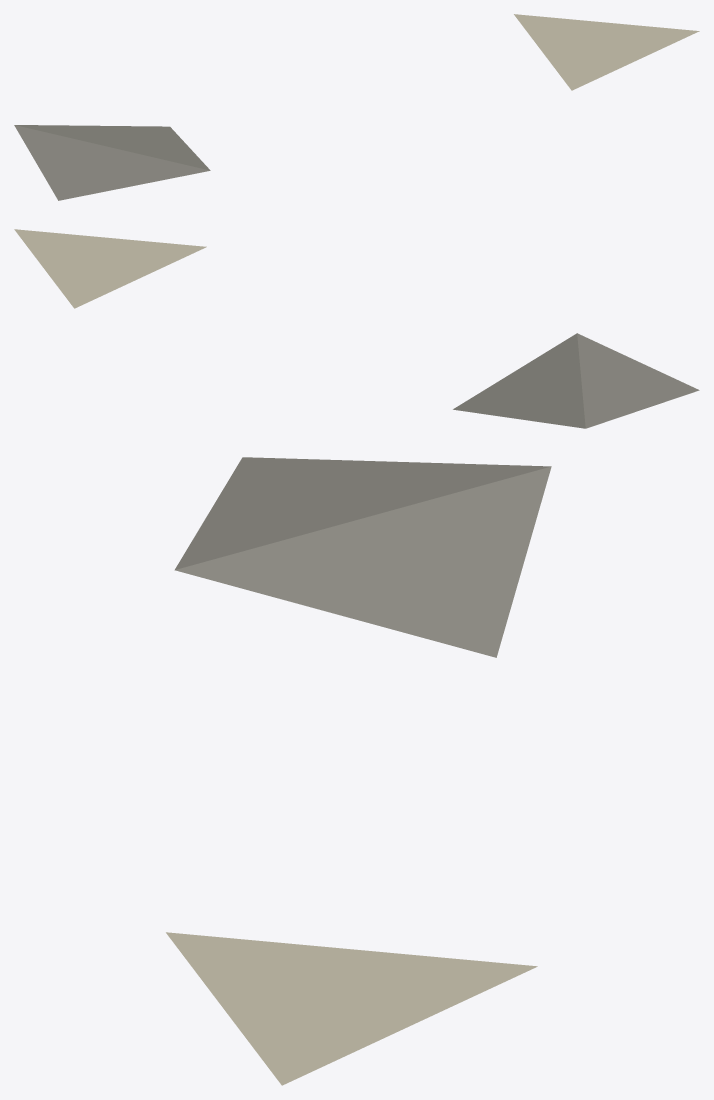
The model's file is rock_6_lod2.glb.
The picture shows the model from 3 angles, top to bottom: view 1: azimuth 30°, elevation 25°; view 2: azimuth 150°, elevation 25°; view 3: azimuth 270°, elevation 25°; orthographic projection. The views are drawn at different scales.
Visible parts, largest first — view 1: rock_6_lod2; view 2: rock_6_lod2; view 3: rock_6_lod2.
Part boxes in pixels (x1=…): rock_6_lod2: x1=14, y1=14, x2=699, y2=200; rock_6_lod2: x1=14, y1=229, x2=699, y2=428; rock_6_lod2: x1=166, y1=457, x2=551, y2=1085.
Bounding box in the file's own units: 2.47 × 0.0954 × 0.6398.
